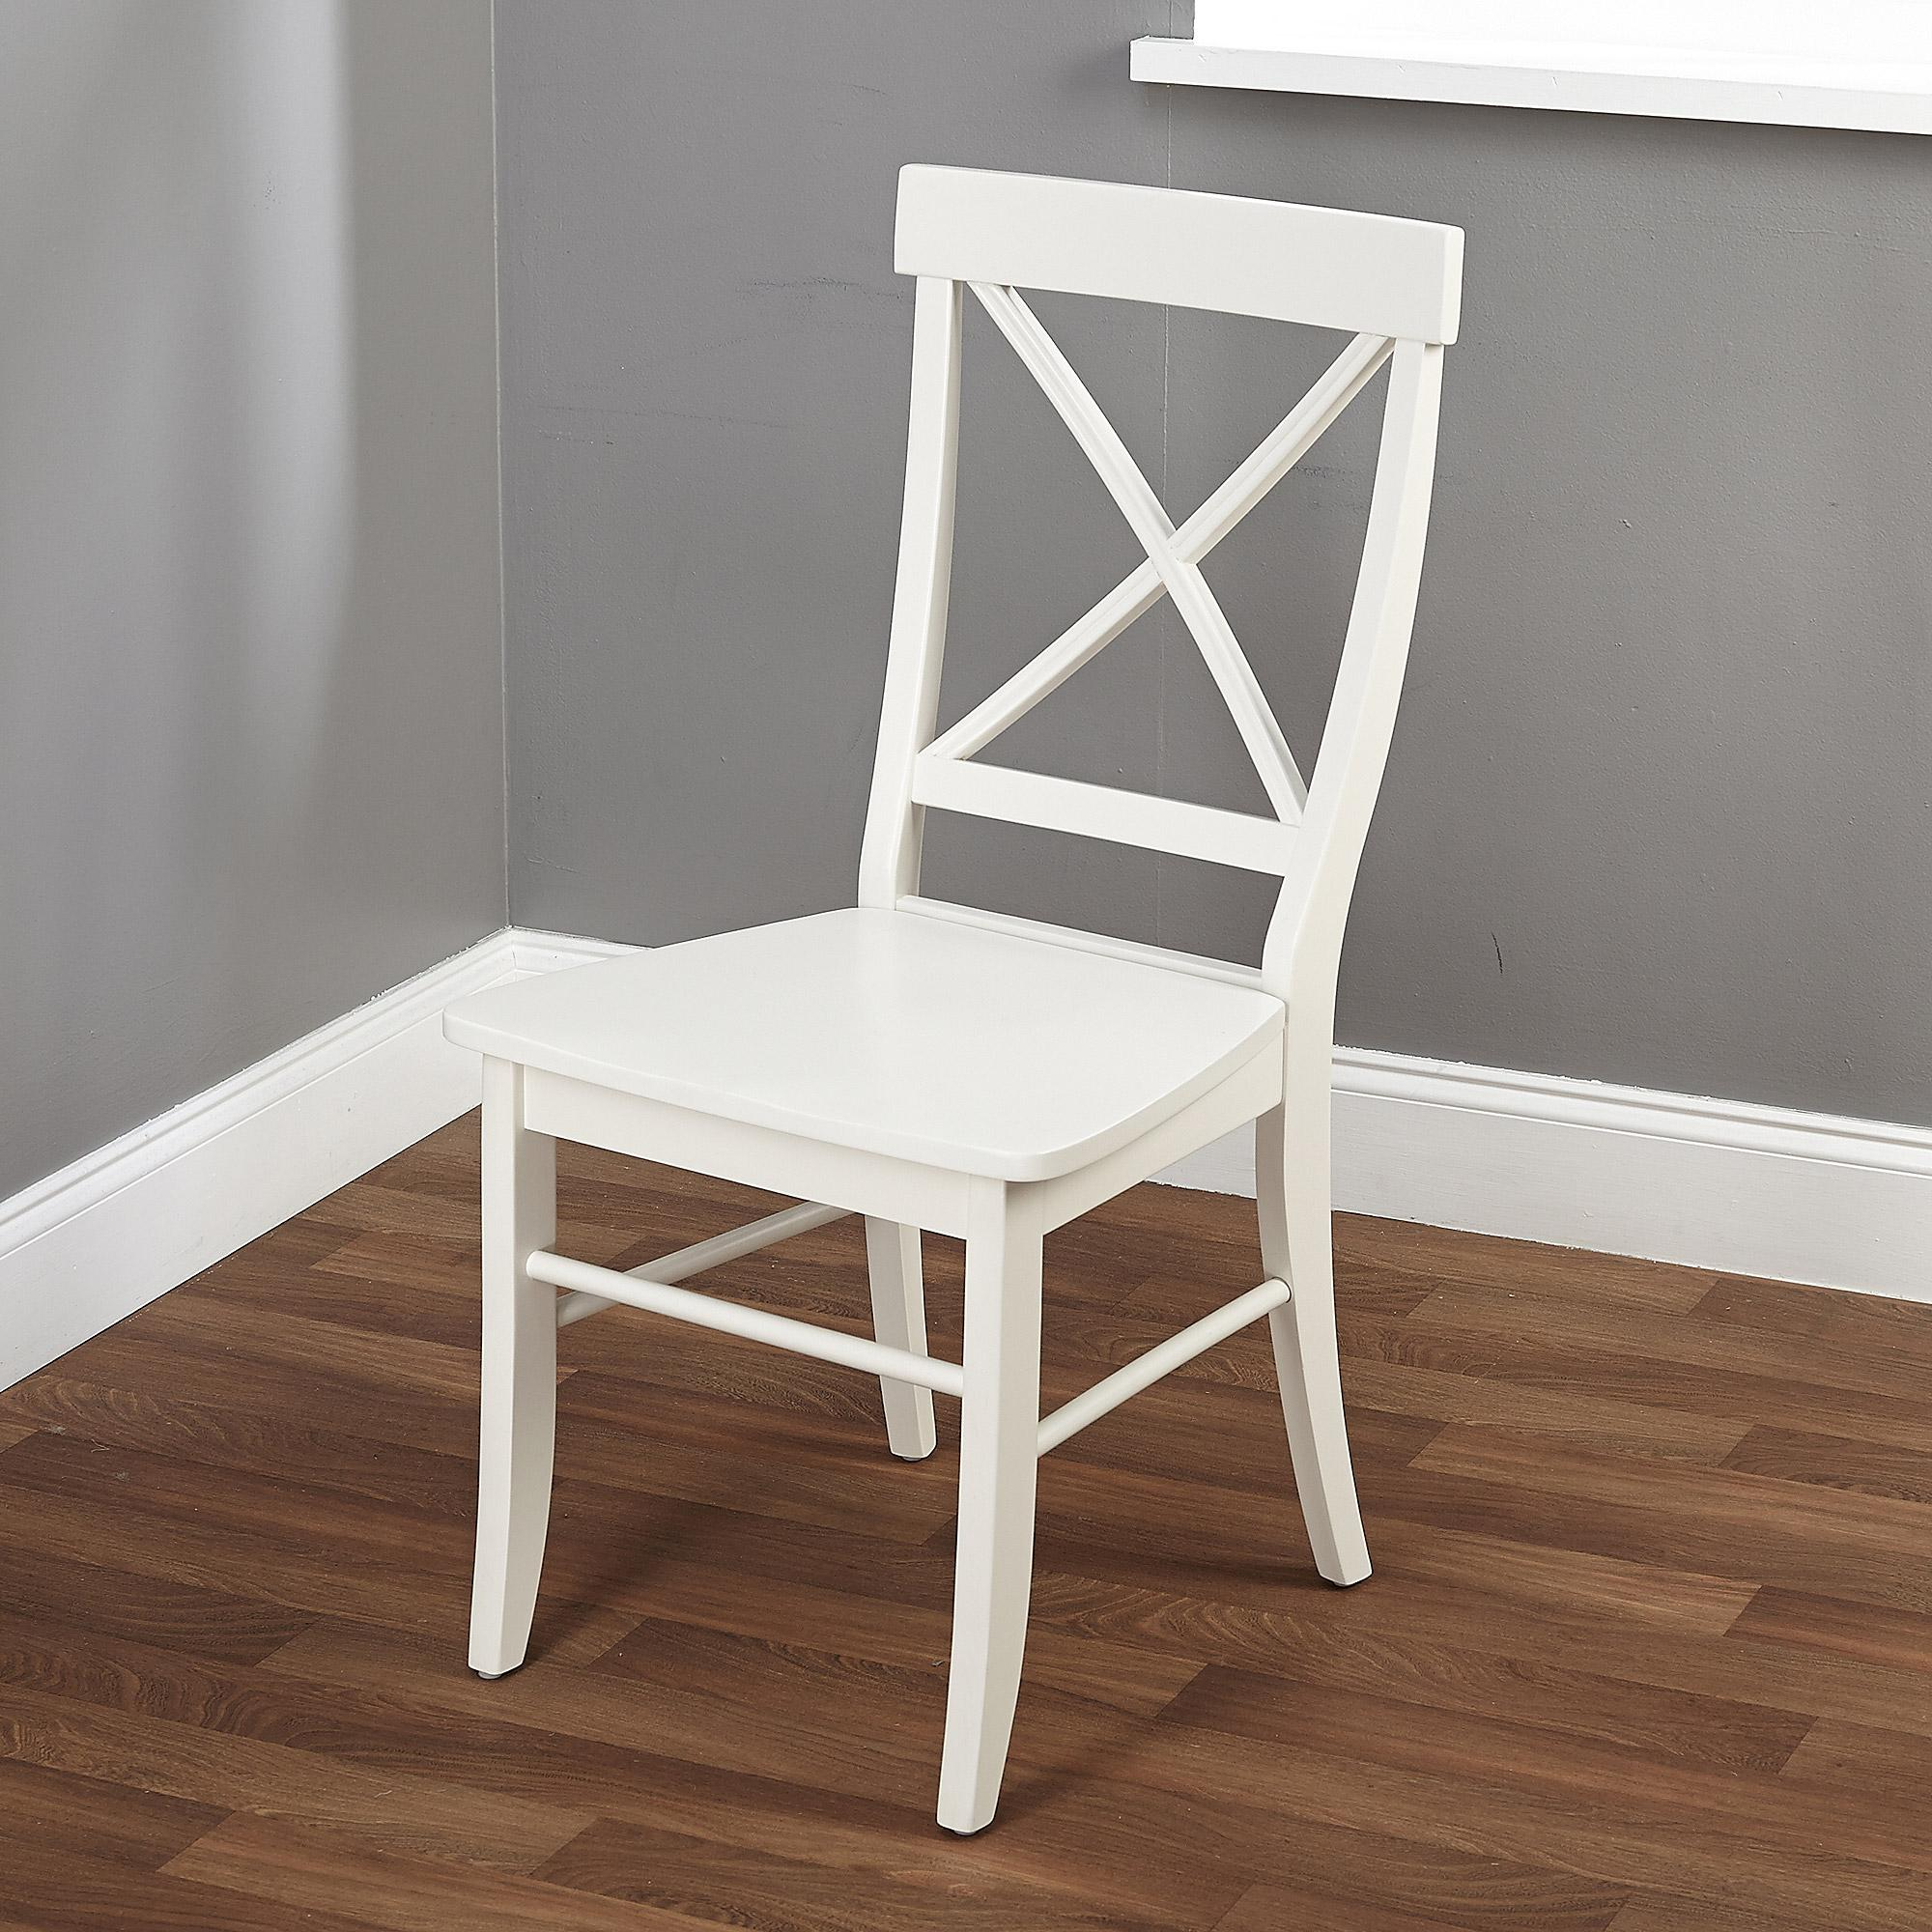chair: (359, 138, 1624, 1861)
